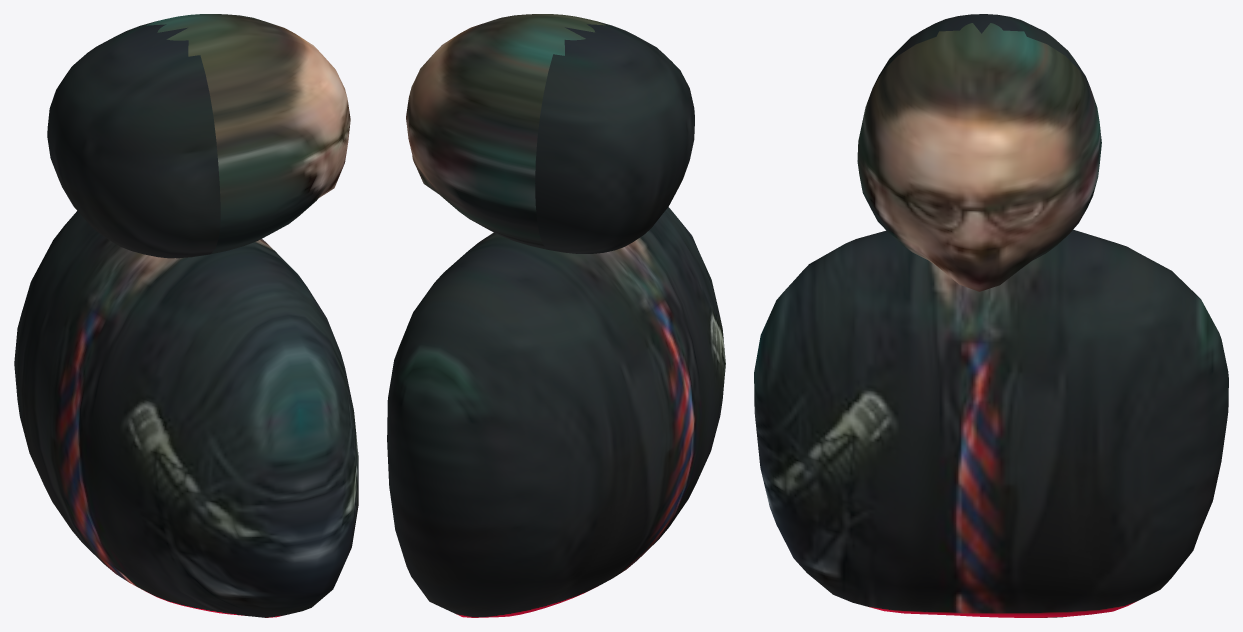
Rendered from samhyde1.glb.
3 views of the same model, side by side, from view 1: azimuth 30°, elevation 25°; view 2: azimuth 150°, elevation 25°; view 3: azimuth 270°, elevation 25° (orthographic). The views are drawn at different scales.
Visible parts, largest first — view 1: Sphere; view 2: Sphere; view 3: Sphere.
Part boxes in pixels (x1,y1,x2,y2): Sphere: [14, 14, 358, 617]; Sphere: [387, 14, 725, 617]; Sphere: [754, 14, 1228, 617].
Bounding box in the file's own units: 1.54 × 3.07 × 2.32.
Materials: 1 (1 with a texture image).
